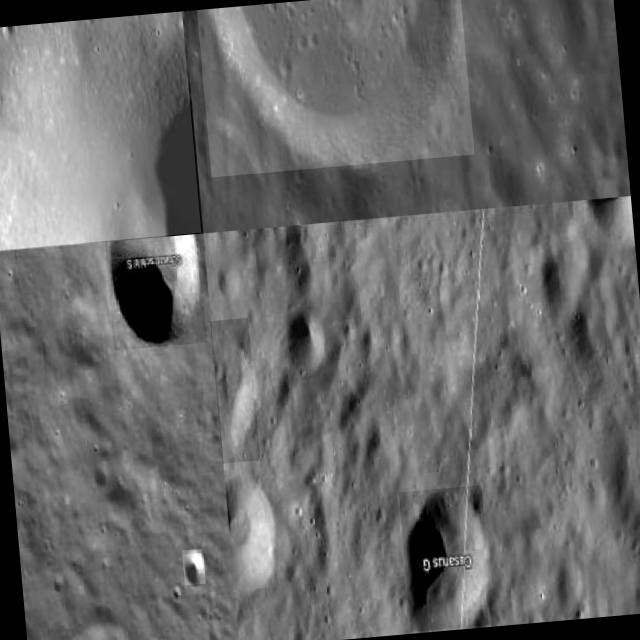crater: (197, 0, 474, 177), (0, 11, 201, 250), (398, 485, 494, 632), (105, 233, 206, 350), (210, 317, 260, 463), (224, 468, 278, 594), (282, 303, 328, 374), (182, 548, 206, 585)
